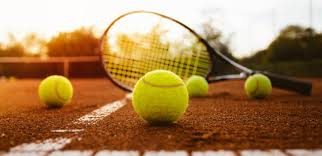tennis_ball: (131, 70, 189, 125), (39, 75, 73, 109), (244, 73, 272, 99), (185, 74, 209, 98)
